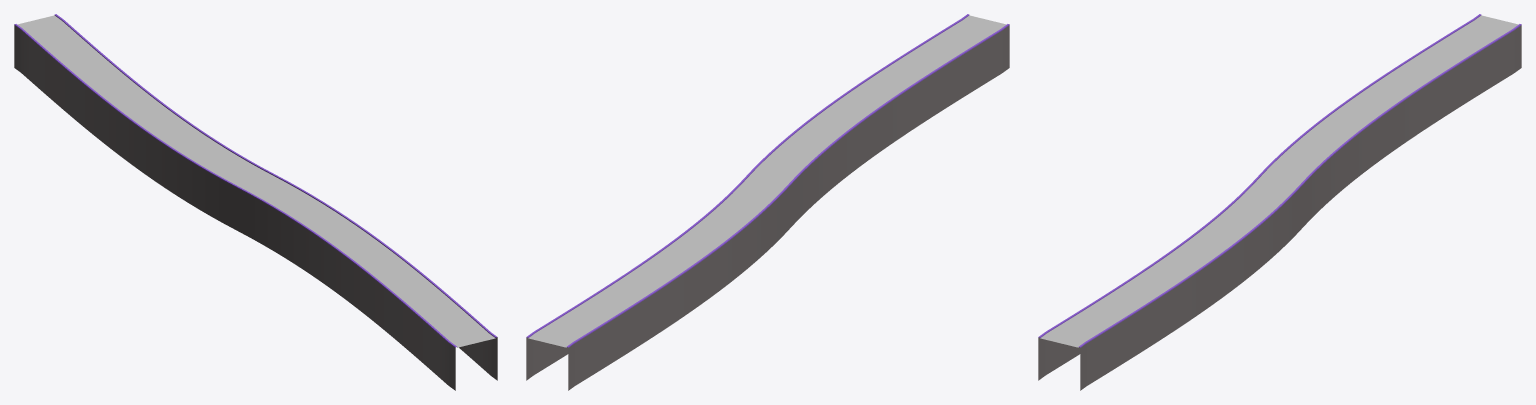
File: Road Curve.fbx
3 renders of one model, left to right at view 1: azimuth 30°, elevation 25°; view 2: azimuth 150°, elevation 25°; view 3: azimuth 330°, elevation 25°, orthographic.
Visible parts, largest first — view 1: Road Curve; view 2: Road Curve; view 3: Road Curve.
Part boxes in pixels (x1=…): Road Curve: x1=14, y1=14, x2=497, y2=390; Road Curve: x1=526, y1=14, x2=1009, y2=390; Road Curve: x1=1038, y1=14, x2=1521, y2=390.
Size of the model in its own units: 1343 by 876 by 16000.
